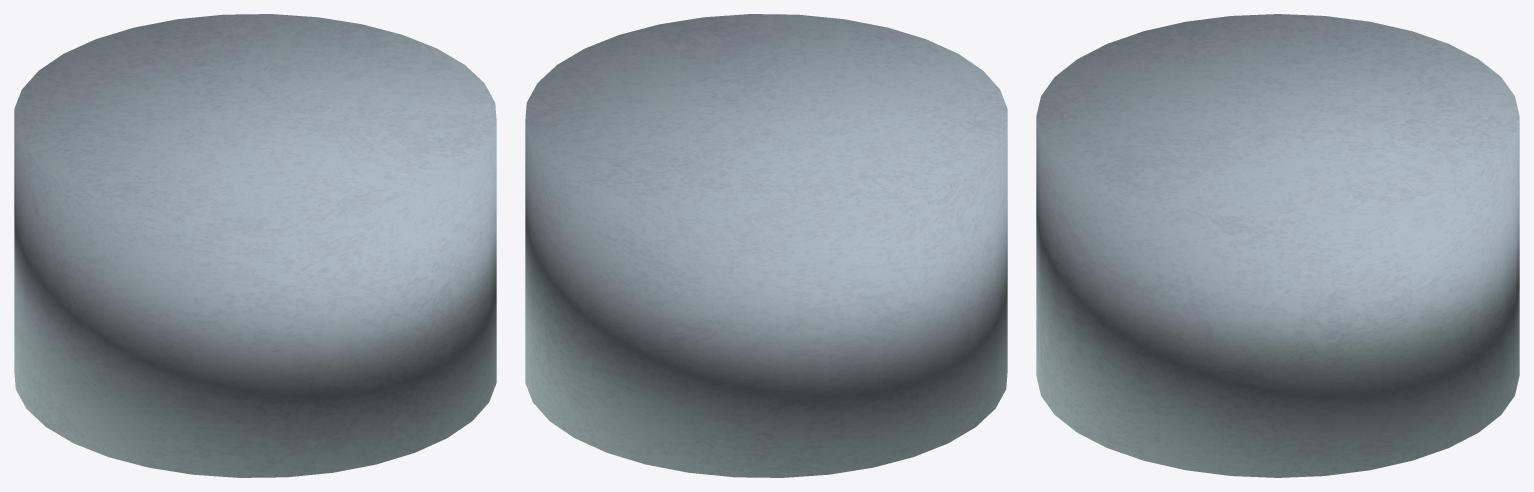
File: OSDE.gltf
3 views of the same model, side by side, from view 1: azimuth 30°, elevation 25°; view 2: azimuth 150°, elevation 25°; view 3: azimuth 270°, elevation 25° (orthographic).
Visible parts, largest first — view 1: OSDE; view 2: OSDE; view 3: OSDE.
Boxes of the visible parts, left/top/right/bottom form: OSDE: left=14, top=14, right=496, bottom=477; OSDE: left=525, top=14, right=1007, bottom=477; OSDE: left=1036, top=14, right=1519, bottom=477.
Size of the model in its own units: 0.6954 by 0.4125 by 0.6954.
Materials: 1 (1 with a texture image).
